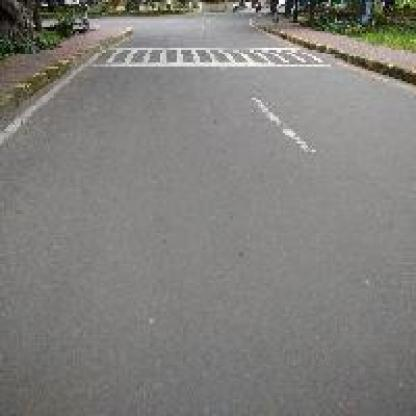Speed Bump: (77, 44, 335, 70)
